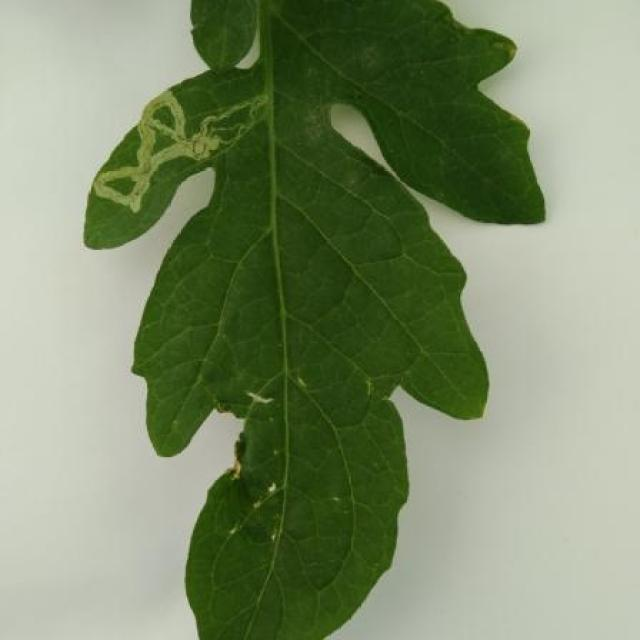Leaf Miner: (76, 0, 546, 639)
